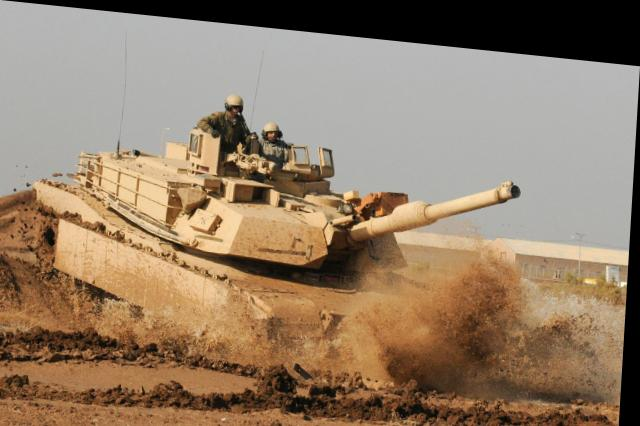other: (201, 86, 248, 134), (258, 112, 290, 158)
tank: (29, 90, 428, 347)
